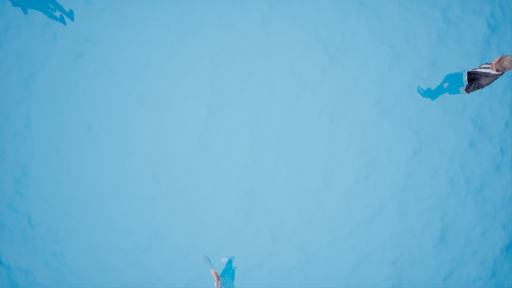person: (419, 47, 512, 102), (193, 240, 247, 288)
